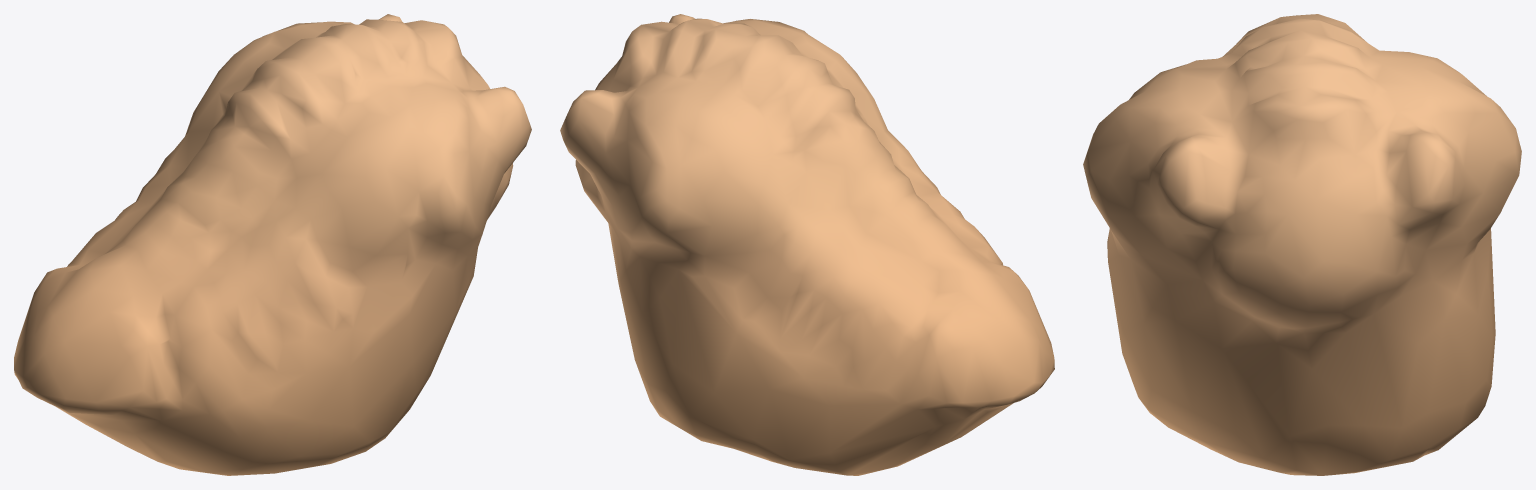
File: Fossil8.fbx
3 views of the same model, side by side, from view 1: azimuth 30°, elevation 25°; view 2: azimuth 150°, elevation 25°; view 3: azimuth 270°, elevation 25° (orthographic). The views are drawn at different scales.
Visible parts, largest first — view 1: fossil15; view 2: fossil15; view 3: fossil15.
Boxes of the visible parts, box(x1,y1,x2,y2) form: fossil15: box(14, 14, 531, 475); fossil15: box(560, 14, 1054, 475); fossil15: box(1083, 14, 1521, 475).
Size of the model in its own units: 103 by 78.75 by 72.67.
